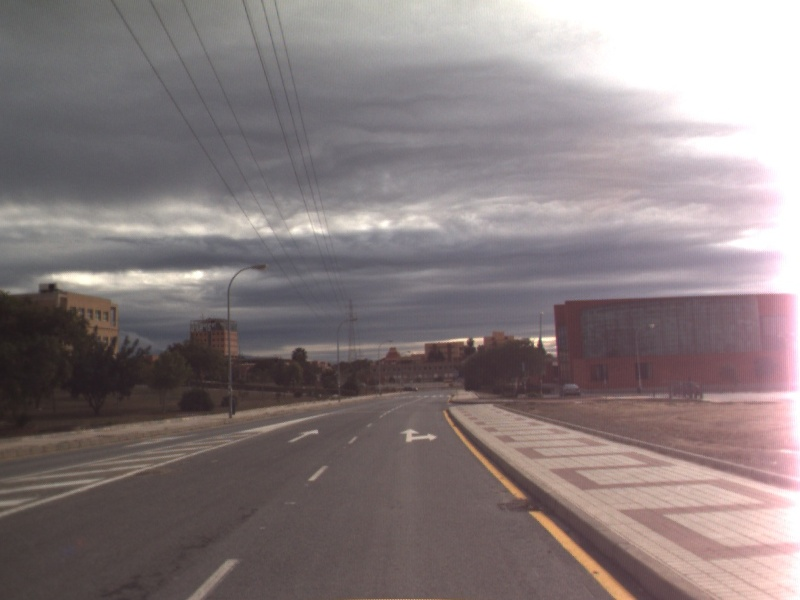STRAIGHT: (286, 427, 321, 444)
STRAIGHT_RIGHT: (397, 427, 439, 444)
